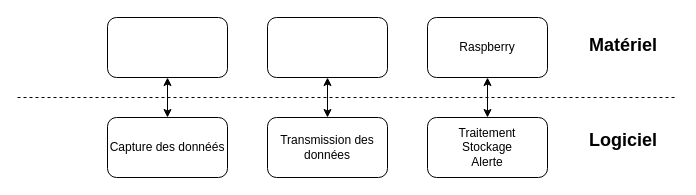
Image size: 696x195. Some labels were removed from this diagram. The centre of each missing label's shape, as x and y in pixels:
"Capteur" belongs at point (167, 47).
"Connectivité" belongs at point (327, 47).
